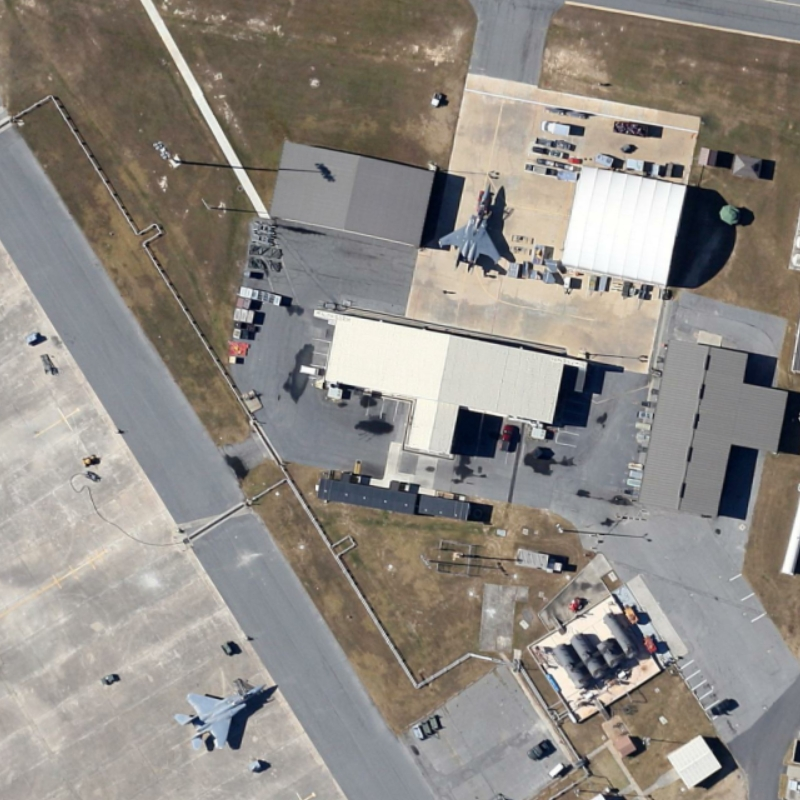A13: (169, 681, 275, 755), (435, 174, 504, 274)
